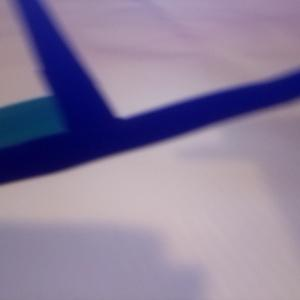top_left: (1, 96, 99, 160)
